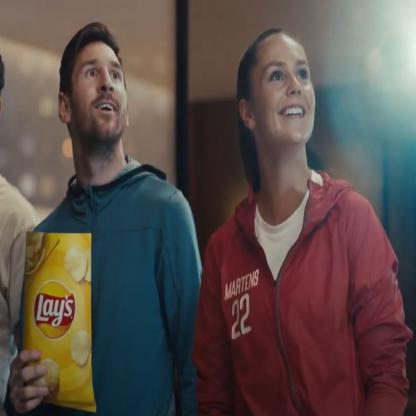potatochip: (21, 228, 96, 414)
